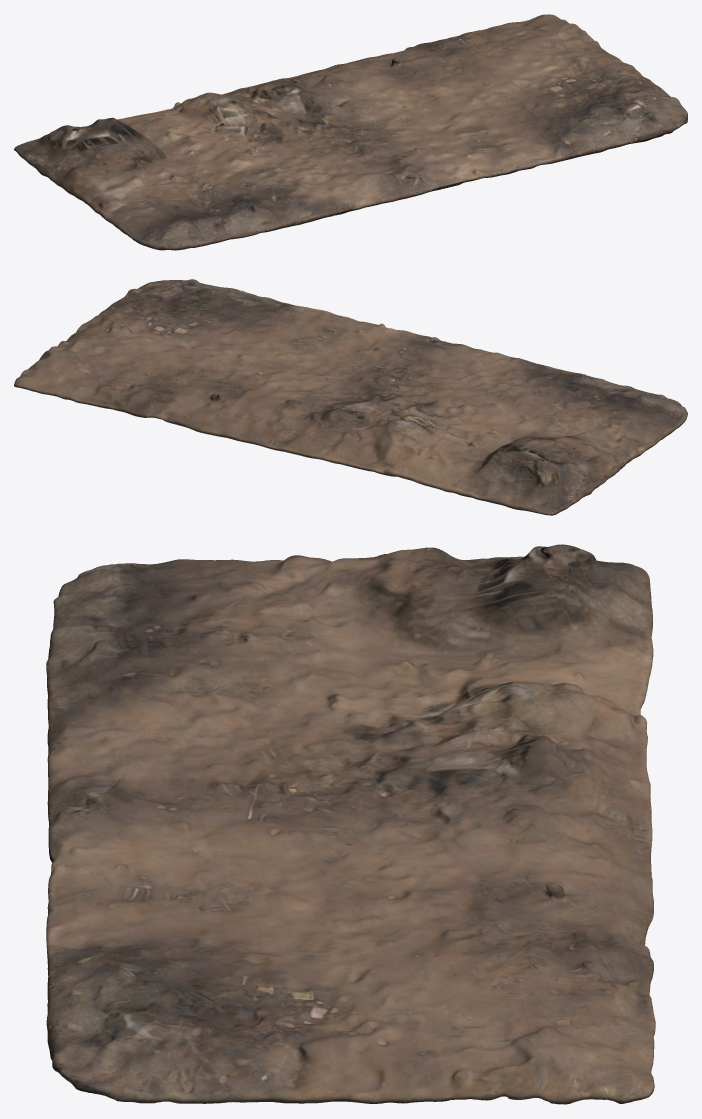
File: _post_apocalyptic_ter_0304085223_texture.obj
3 views of the same model, one above another, from view 1: azimuth 30°, elevation 25°; view 2: azimuth 150°, elevation 25°; view 3: azimuth 270°, elevation 25° (orthographic). The views are drawn at different scales.
Visible parts, largest first — view 1: _post_apocalyptic_ter_0304085223_texture; view 2: _post_apocalyptic_ter_0304085223_texture; view 3: _post_apocalyptic_ter_0304085223_texture.
Boxes of the visible parts, x1=… form: _post_apocalyptic_ter_0304085223_texture: x1=14, y1=14, x2=687, y2=250; _post_apocalyptic_ter_0304085223_texture: x1=14, y1=279, x2=687, y2=515; _post_apocalyptic_ter_0304085223_texture: x1=46, y1=544, x2=655, y2=1104.
Bounding box in the file's own units: 1.99 × 0.1119 × 0.9545.
Materials: 1 (1 with a texture image).
